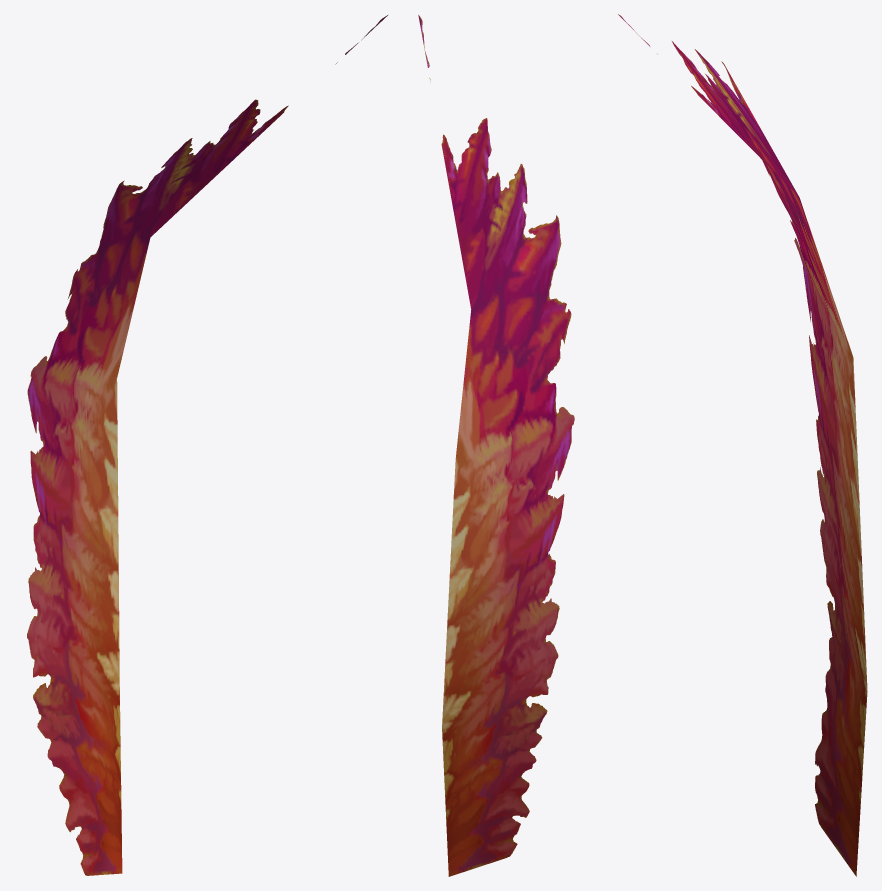
Rendered from mesh_fenghuangchibang_001.FBX.
3 views of the same model, side by side, from view 1: azimuth 30°, elevation 25°; view 2: azimuth 150°, elevation 25°; view 3: azimuth 270°, elevation 25° (orthographic). The views are drawn at different scales.
Visible parts, largest first — view 1: mesh_fenghuangchibang_001; view 2: mesh_fenghuangchibang_001; view 3: mesh_fenghuangchibang_001.
Boxes of the visible parts, box(x1,y1,x2,y2) form: mesh_fenghuangchibang_001: box(27, 15, 387, 875); mesh_fenghuangchibang_001: box(418, 15, 574, 876); mesh_fenghuangchibang_001: box(618, 14, 867, 876).
Size of the model in its own units: 84.87 by 254 by 61.33.
